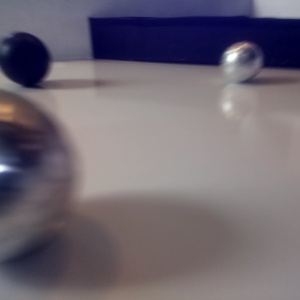zone: (88, 16, 300, 69)
